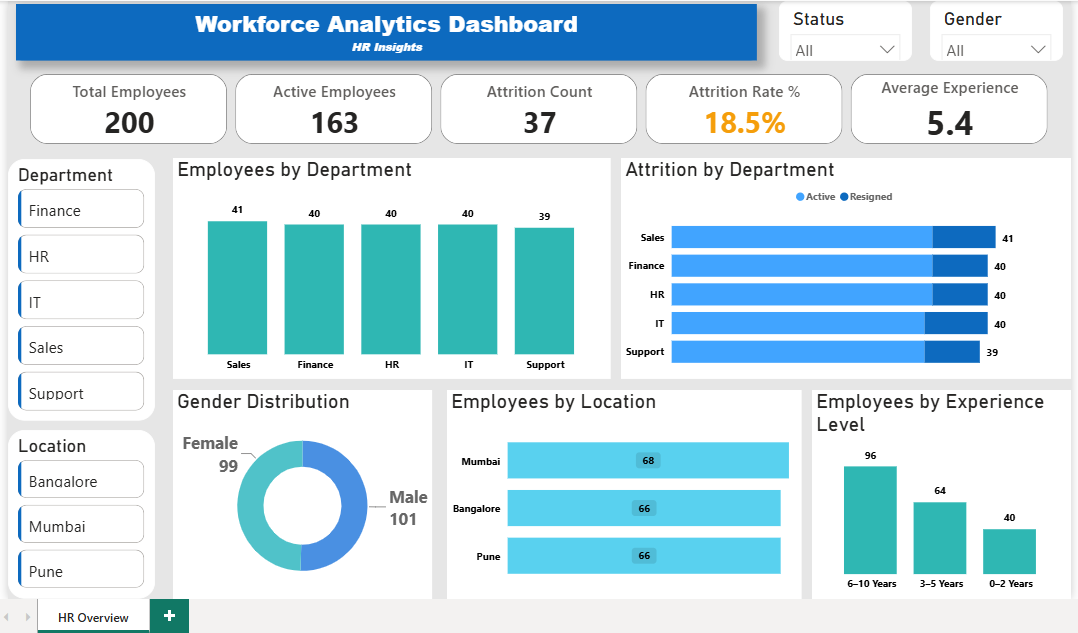

This screenshot's page, from the dashboard's own definition file:
{"tool":"powerbi","page":{"name":"Dashboard","canvas":[1280,720],"ordinal":0},"visuals":[{"type":"shape","box":[10,3.3,891.7,68.3],"z":0},{"type":"advancedSlicerVisual","title":"Department","fields":{"Values":["public departments.dept_name"]},"box":[0,190,176.7,315],"z":1000},{"type":"advancedSlicerVisual","title":"Location","fields":{"Values":["public employees.location"]},"box":[0,516.7,176.7,203.3],"z":2000},{"type":"slicer","fields":{"Values":["public employees.gender"]},"box":[1110,0,160,71.7],"z":3000},{"type":"slicer","fields":{"Values":["public employees.status"]},"box":[928.3,0,160,71.7],"z":4000},{"type":"cardVisual","fields":{"Data":["public employees.Total Employees","public employees.Active Employees","public employees.Attrition Count","public employees.Attrition Rate %","public employees.Average Experience"]},"box":[9.2,70.8,1260,118.5],"z":5000},{"type":"columnChart","title":"Employees by Department","fields":{"Category":["public departments.dept_name"],"Y":["public employees.Total Employees"]},"box":[198.4,189.5,527.4,266.4],"z":6000},{"type":"barChart","title":"Attrition by Department","fields":{"Category":["public departments.dept_name"],"Series":["public employees.status"],"Y":["public employees.Total Employees"]},"box":[738.3,189.5,541.7,266.4],"z":7000},{"type":"donutChart","title":"Gender Distribution","fields":{"Category":["public employees.gender"],"Y":["public employees.Total Employees"]},"box":[198.3,468.3,311.7,251.7],"z":8000},{"type":"barChart","title":"Employees by Location","fields":{"Category":["public employees.location"],"Y":["public employees.Total Employees"]},"box":[528.3,468.3,426.7,251.7],"z":9000},{"type":"clusteredColumnChart","title":"Employees by Experience Level","fields":{"Category":["public employees.Experience Bucket"],"Y":["public employees.Total Employees"]},"box":[968.3,468.3,311.7,251.7],"z":10000},{"type":"textbox","box":[30,3.3,851.7,81.7],"z":11000}]}

Visuals, with their boxes on the page's 1280x720 design canvas (x1, y1, x2, y2). These are canvas units, not pixel positions in the 1078x633 screenshot, which may show the page scaled, cropped or inside an application window:
shape: 10, 3, 902, 72
"Department" advancedSlicerVisual: 0, 190, 177, 505
"Location" advancedSlicerVisual: 0, 517, 177, 720
slicer - public employees.gender: 1110, 0, 1270, 72
slicer - public employees.status: 928, 0, 1088, 72
cardVisual - public employees.Total Employees x public employees.Active Employees: 9, 71, 1269, 189
"Employees by Department" columnChart: 198, 190, 726, 456
"Attrition by Department" barChart: 738, 190, 1280, 456
"Gender Distribution" donutChart: 198, 468, 510, 720
"Employees by Location" barChart: 528, 468, 955, 720
"Employees by Experience Level" clusteredColumnChart: 968, 468, 1280, 720
textbox: 30, 3, 882, 85
